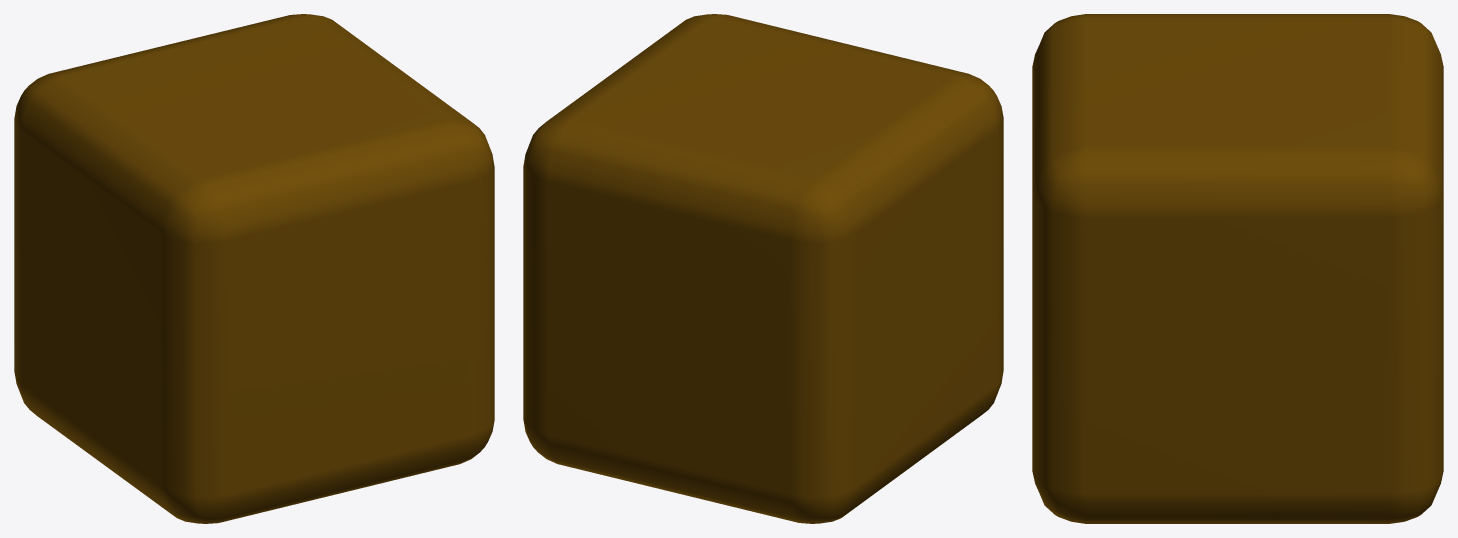
Rendered from dirt_block.fbx.
The picture shows the model from 3 angles, left to right: view 1: azimuth 30°, elevation 25°; view 2: azimuth 150°, elevation 25°; view 3: azimuth 270°, elevation 25°; orthographic projection. The views are drawn at different scales.
Parts seen in each view (by area): view 1: pCube71; view 2: pCube71; view 3: pCube71.
Part boxes in pixels (x1,y1,x2,y2): pCube71: [14, 14, 494, 523]; pCube71: [523, 14, 1003, 523]; pCube71: [1032, 14, 1443, 523].
Size of the model in its own units: 0.01 by 0.01 by 0.01.
